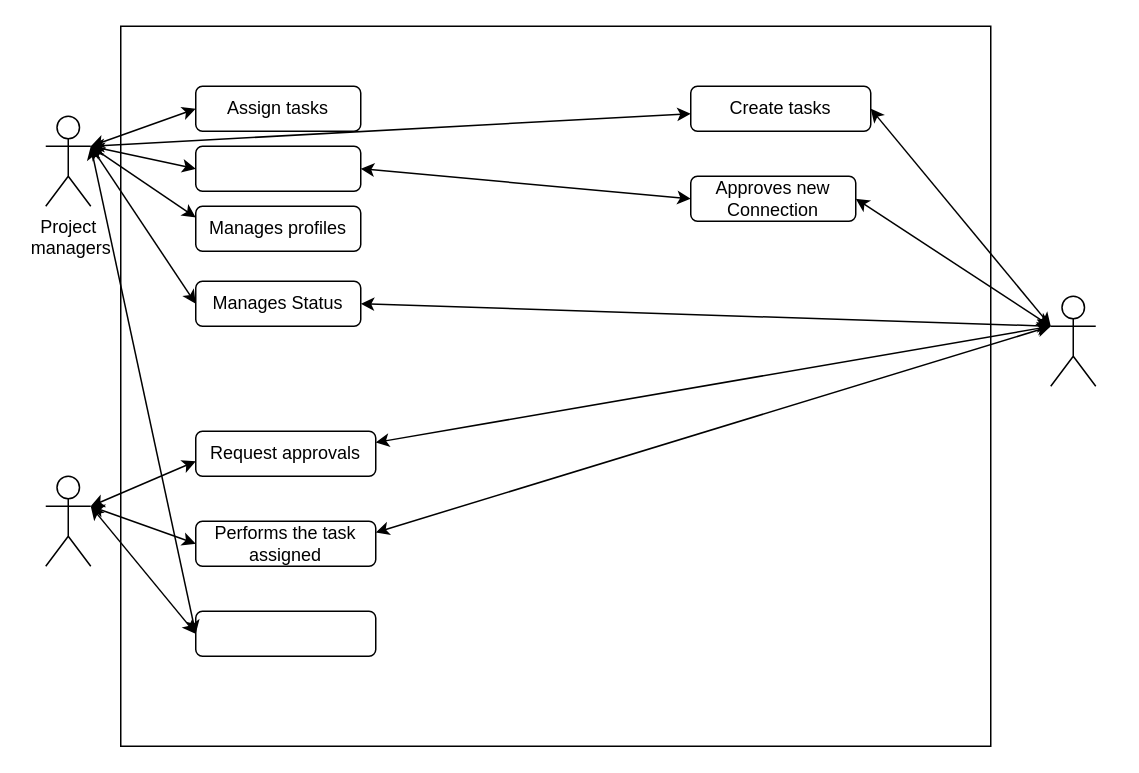
This 1139x773 diagram has some shape labels left out. The shapes that lost their labels are listed below. From the top down, each one's centre as x and y in pixels, then its label:
At [277,168]: "Initialize new Connection".
At [1072,340]: "Managers".
At [67,520]: "LIneman".
At [285,633]: "Updates Status".
